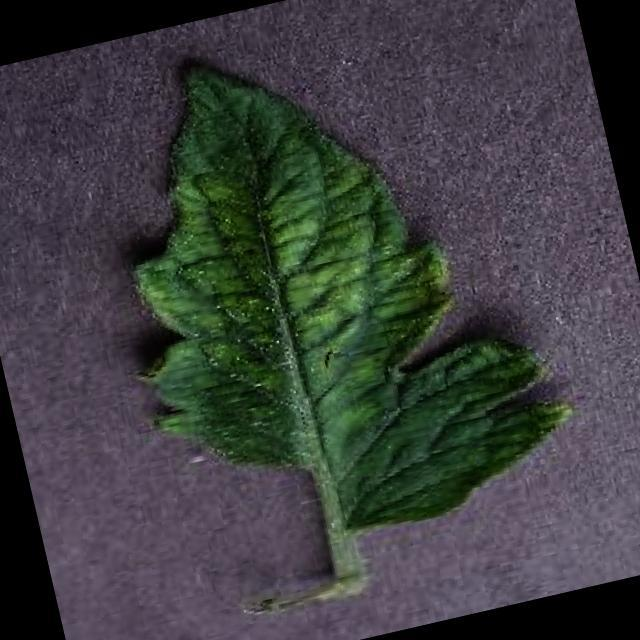Tomato mosaic virus leaf: (65, 0, 600, 578)
